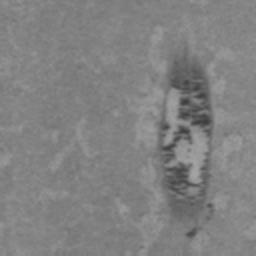Oxide scale of plate system: (155, 41, 214, 238)
